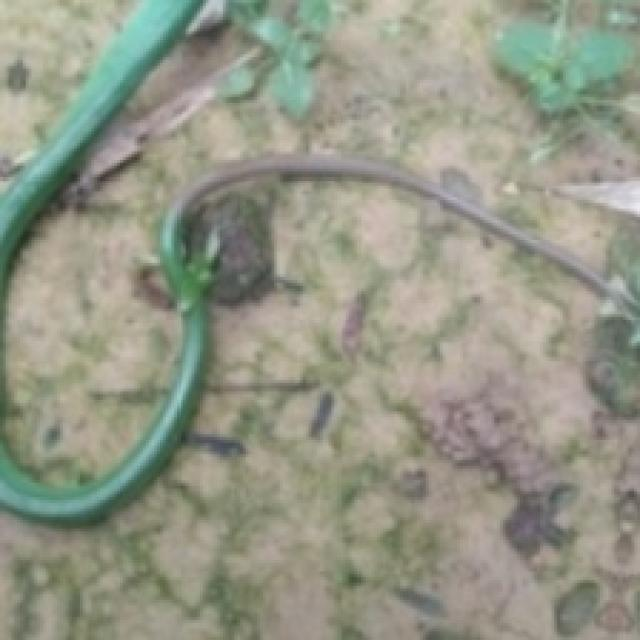red-tailed green ratsnake: (0, 155, 629, 523), (0, 0, 202, 411)
